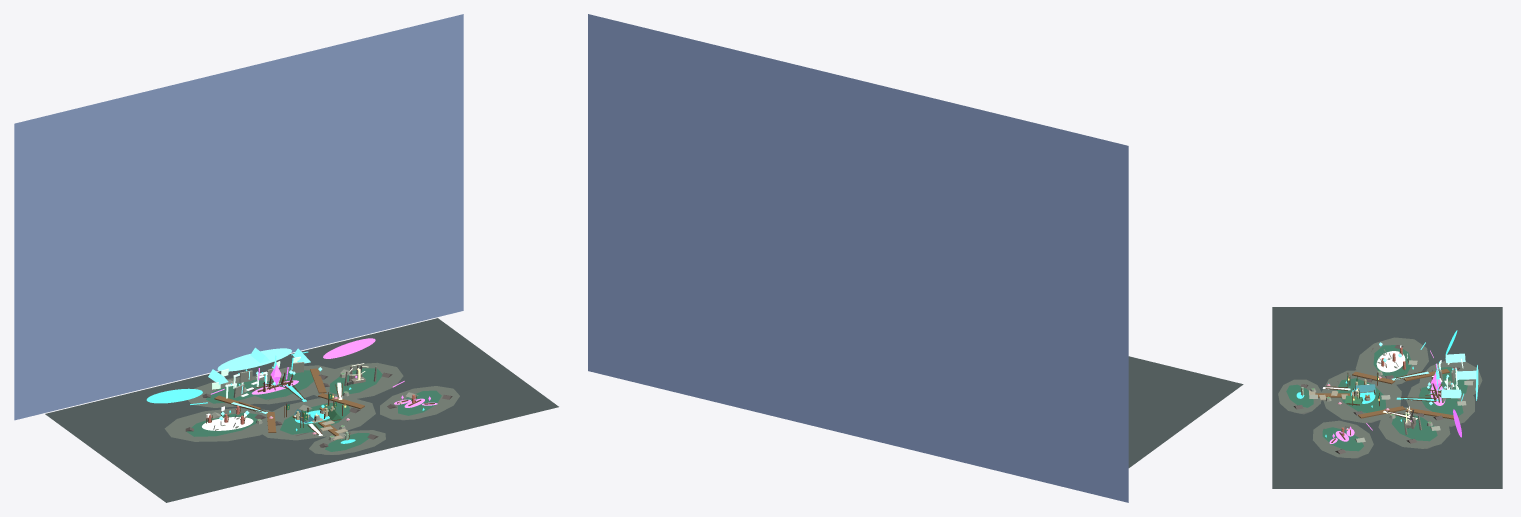
File: memory_wastes_visual_benchmark_v002.glb
3 renders of one model, left to right at view 1: azimuth 30°, elevation 25°; view 2: azimuth 150°, elevation 25°; view 3: azimuth 270°, elevation 25°, orthographic. The views are drawn at different scales.
Visible parts, largest first — view 1: WASTE_Terrain_Backdrop_MemoryStormSky, WASTE_Terrain_DarkVoidBase_NoWalk, WASTE_Terrain_CentralSylvaenCampIsland_FragmentedPlate, WASTE_Terrain_EchoBattlefieldIsland_FragmentedPlate, WASTE_Terrain_DeadGodShrineIsland_FragmentedPlate, WASTE_Terrain_SideRootRiftIsland_FragmentedPlate, WASTE_Terrain_WorldrootSheddingRiftIsland_FragmentedPlate, WASTE_Terrain_BackgroundMemoryStormRibbon_02, WASTE_Terrain_CentralSylvaenCampIsland_MossMemorySkin, WASTE_Terrain_PlayerSpawnIsland_FragmentedPlate, WASTE_Terrain_DeadGodShrineIsland_MossMemorySkin, WASTE_Terrain_WorldrootSheddingRiftIsland_MossMemorySkin; view 2: WASTE_Terrain_Backdrop_MemoryStormSky, WASTE_Terrain_DarkVoidBase_NoWalk; view 3: WASTE_Terrain_DarkVoidBase_NoWalk, WASTE_Terrain_CentralSylvaenCampIsland_FragmentedPlate, WASTE_Terrain_EchoBattlefieldIsland_FragmentedPlate, WASTE_Terrain_DeadGodShrineIsland_FragmentedPlate, WASTE_Terrain_SideRootRiftIsland_FragmentedPlate, WASTE_Terrain_WorldrootSheddingRiftIsland_FragmentedPlate, WASTE_Terrain_DeadGodShrineIsland_MossMemorySkin, WASTE_Terrain_CentralSylvaenCampIsland_MossMemorySkin, WASTE_Terrain_PlayerSpawnIsland_FragmentedPlate, WASTE_Terrain_OranynRuinIsland_FragmentedPlate, WASTE_Terrain_WorldrootSheddingRiftIsland_MossMemorySkin, WASTE_Terrain_SideRootRiftIsland_MossMemorySkin (+4 smaller).
Part boxes in pixels (bbox=[...]): WASTE_Terrain_Backdrop_MemoryStormSky: bbox=[14, 14, 463, 420]; WASTE_Terrain_DarkVoidBase_NoWalk: bbox=[45, 318, 558, 502]; WASTE_Terrain_CentralSylvaenCampIsland_FragmentedPlate: bbox=[255, 398, 375, 440]; WASTE_Terrain_EchoBattlefieldIsland_FragmentedPlate: bbox=[164, 408, 283, 441]; WASTE_Terrain_DeadGodShrineIsland_FragmentedPlate: bbox=[309, 362, 403, 400]; WASTE_Terrain_SideRootRiftIsland_FragmentedPlate: bbox=[380, 386, 459, 419]; WASTE_Terrain_WorldrootSheddingRiftIsland_FragmentedPlate: bbox=[240, 365, 334, 404]; WASTE_Terrain_BackgroundMemoryStormRibbon_02: bbox=[217, 348, 291, 371]; WASTE_Terrain_CentralSylvaenCampIsland_MossMemorySkin: bbox=[280, 403, 350, 434]; WASTE_Terrain_PlayerSpawnIsland_FragmentedPlate: bbox=[309, 430, 385, 454]; WASTE_Terrain_DeadGodShrineIsland_MossMemorySkin: bbox=[329, 368, 382, 395]; WASTE_Terrain_WorldrootSheddingRiftIsland_MossMemorySkin: bbox=[255, 370, 313, 399]; WASTE_Terrain_Backdrop_MemoryStormSky: bbox=[588, 14, 1128, 502]; WASTE_Terrain_DarkVoidBase_NoWalk: bbox=[1128, 356, 1243, 467]; WASTE_Terrain_DarkVoidBase_NoWalk: bbox=[1272, 307, 1502, 488]; WASTE_Terrain_CentralSylvaenCampIsland_FragmentedPlate: bbox=[1322, 370, 1401, 423]; WASTE_Terrain_EchoBattlefieldIsland_FragmentedPlate: bbox=[1355, 337, 1428, 384]; WASTE_Terrain_DeadGodShrineIsland_FragmentedPlate: bbox=[1378, 406, 1450, 448]; WASTE_Terrain_SideRootRiftIsland_FragmentedPlate: bbox=[1313, 420, 1373, 458]; WASTE_Terrain_WorldrootSheddingRiftIsland_FragmentedPlate: bbox=[1406, 378, 1474, 426]; WASTE_Terrain_DeadGodShrineIsland_MossMemorySkin: bbox=[1391, 413, 1437, 441]; WASTE_Terrain_CentralSylvaenCampIsland_MossMemorySkin: bbox=[1336, 378, 1386, 412]; WASTE_Terrain_PlayerSpawnIsland_FragmentedPlate: bbox=[1278, 379, 1321, 413]; WASTE_Terrain_OranynRuinIsland_FragmentedPlate: bbox=[1419, 360, 1482, 397]; WASTE_Terrain_WorldrootSheddingRiftIsland_MossMemorySkin: bbox=[1418, 386, 1463, 416]; WASTE_Terrain_SideRootRiftIsland_MossMemorySkin: bbox=[1322, 427, 1363, 451].
Bounding box in the file's own units: 96 × 60.6 × 45.8.
